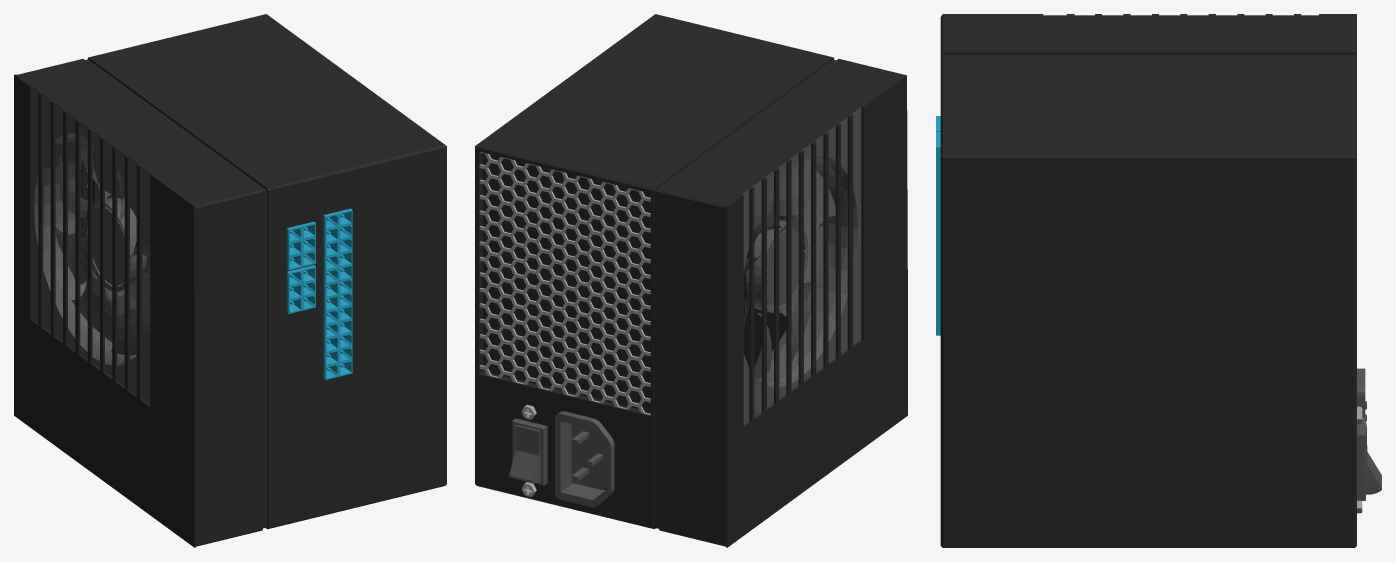
File: Power.fbx
The picture shows the model from 3 angles, left to right: view 1: azimuth 30°, elevation 25°; view 2: azimuth 150°, elevation 25°; view 3: azimuth 270°, elevation 25°; orthographic projection. The views are drawn at different scales.
Visible parts, largest first — view 1: Power, Fan, Power Slot, Power Slot.001, Power Slot.002; view 2: Power, Hex, Fan, Plug, Switch; view 3: Power, Switch, Power Slot.
Boxes of the visible parts, x1,y1,x2,y2 form: Power: (14, 14, 446, 547); Fan: (32, 86, 151, 404); Power Slot: (323, 208, 352, 379); Power Slot.001: (286, 221, 315, 270); Power Slot.002: (286, 265, 315, 313); Power: (475, 14, 907, 547); Hex: (479, 152, 650, 415); Fan: (742, 107, 861, 425); Plug: (555, 411, 614, 507); Switch: (509, 418, 547, 485); Power: (940, 14, 1356, 547); Switch: (1357, 417, 1381, 500); Power Slot: (936, 132, 940, 335).
Size of the model in its own units: 95.56 by 123 by 127.
